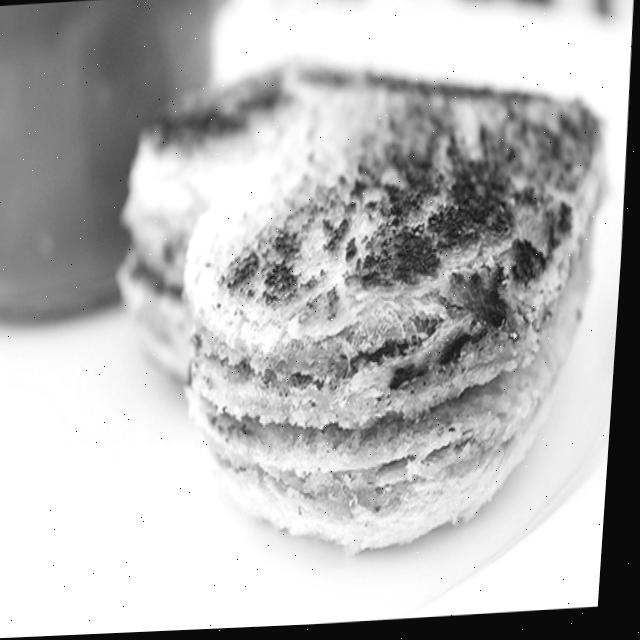面包点心: (67, 18, 633, 586)
